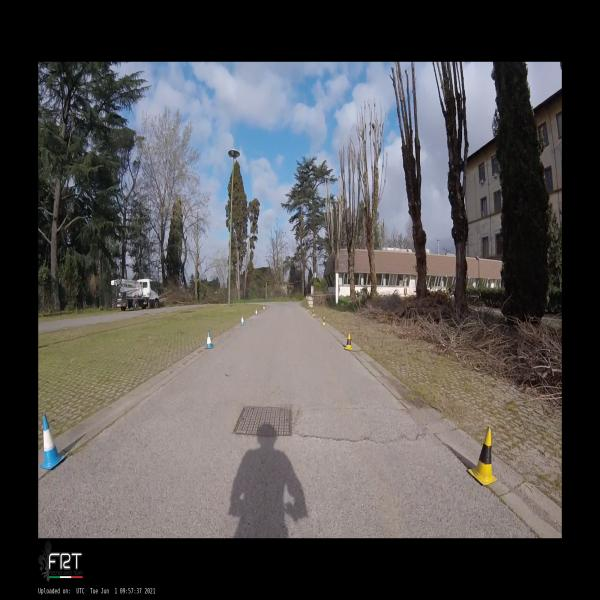blue_cone: (39, 415, 66, 470), (204, 332, 215, 348), (240, 316, 245, 325)
yellow_cone: (468, 427, 498, 485), (344, 333, 352, 350), (322, 316, 325, 326), (312, 309, 314, 316)
